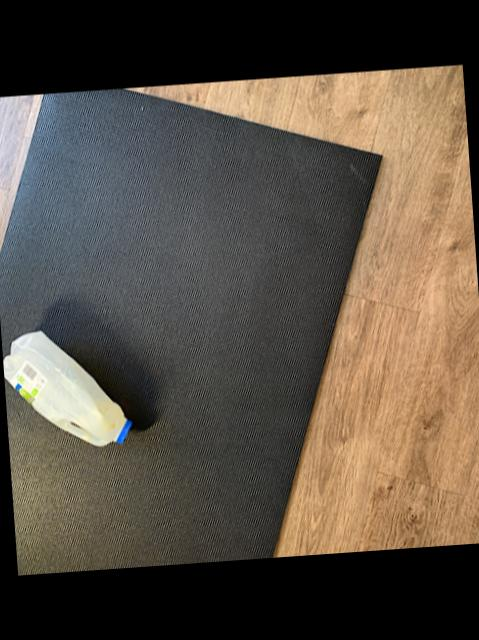plastic: (2, 330, 127, 444)
